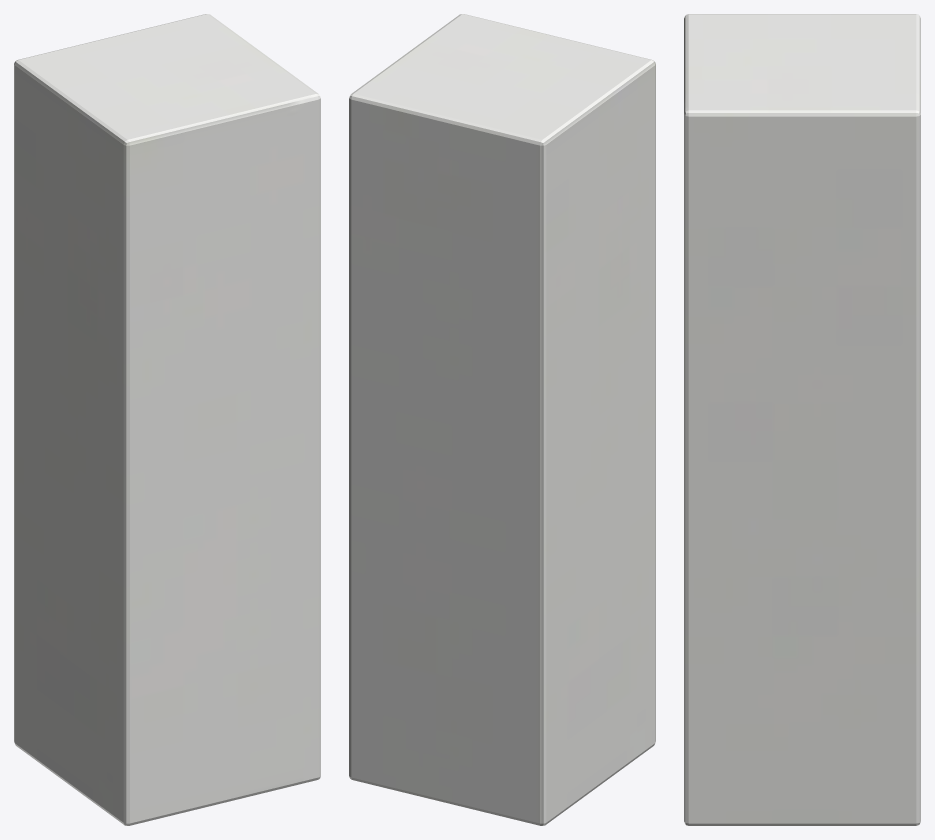
Rendered from plinth_rect.glb.
The picture shows the model from 3 angles, left to right: view 1: azimuth 30°, elevation 25°; view 2: azimuth 150°, elevation 25°; view 3: azimuth 270°, elevation 25°; orthographic projection. The views are drawn at different scales.
Parts seen in each view (by area): view 1: plinth_rect; view 2: plinth_rect; view 3: plinth_rect.
Boxes of the visible parts, x1=… form: plinth_rect: x1=14, y1=14, x2=320, y2=825; plinth_rect: x1=349, y1=14, x2=655, y2=825; plinth_rect: x1=684, y1=14, x2=920, y2=825.
Size of the model in its own units: 0.3 by 1 by 0.3.
1 material, 1 textured.
